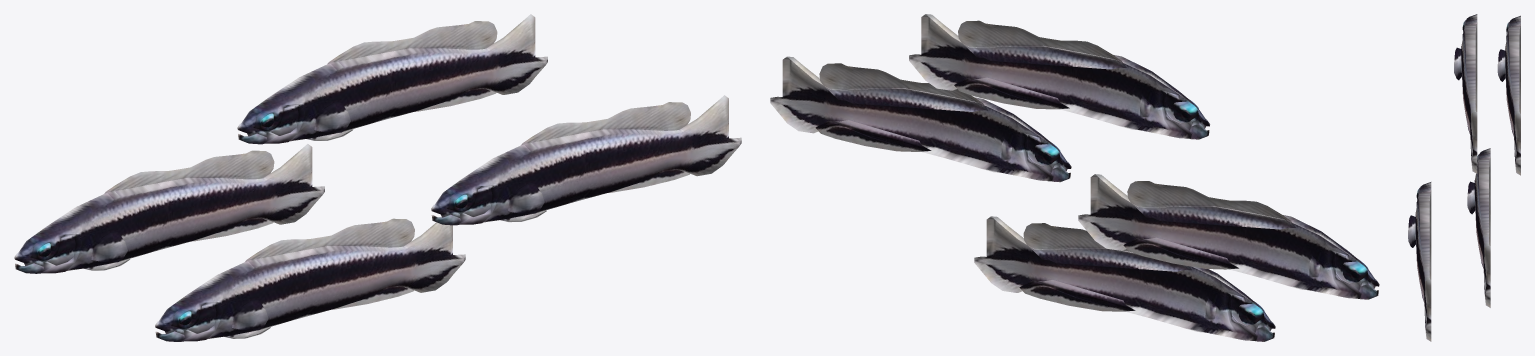
The model's file is stripedFish.glb.
The picture shows the model from 3 angles, left to right: view 1: azimuth 30°, elevation 25°; view 2: azimuth 150°, elevation 25°; view 3: azimuth 270°, elevation 25°; orthographic projection. The views are drawn at different scales.
Parts seen in each view (by area): view 1: Cube.001, Cube.003, Cube.002, Cube; view 2: Cube.001, Cube.003, Cube.002, Cube; view 3: Cube.003, Cube.002, Cube, Cube.001.
Boxes of the visible parts, x1=… form: Cube.001: x1=14, y1=144, x2=324, y2=273; Cube.003: x1=237, y1=14, x2=547, y2=144; Cube.002: x1=431, y1=95, x2=741, y2=225; Cube: x1=155, y1=218, x2=465, y2=341; Cube.001: x1=1078, y1=174, x2=1379, y2=299; Cube.003: x1=909, y1=14, x2=1210, y2=139; Cube.002: x1=770, y1=56, x2=1071, y2=182; Cube: x1=974, y1=216, x2=1275, y2=341; Cube.003: x1=1454, y1=14, x2=1477, y2=173; Cube.002: x1=1408, y1=182, x2=1431, y2=341; Cube: x1=1467, y1=148, x2=1490, y2=307; Cube.001: x1=1497, y1=15, x2=1520, y2=175.
Bounding box in the file's own units: 10.64 × 4.07 × 1.7.
2 materials, 2 textured.
